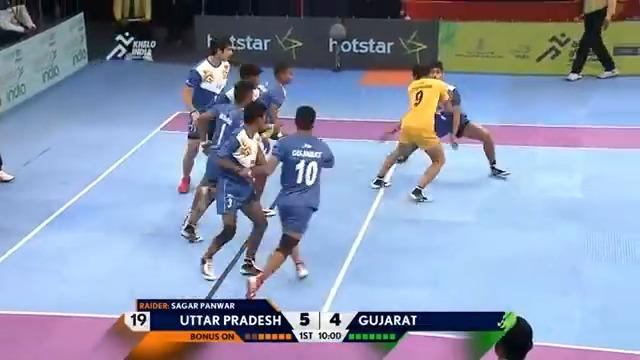Player: (242, 105, 334, 298), (198, 101, 273, 282), (180, 79, 259, 243), (427, 60, 510, 179), (177, 35, 235, 193), (263, 59, 288, 131)
Raider: (368, 60, 456, 204)
referee: (564, 0, 619, 81), (466, 311, 534, 359)
